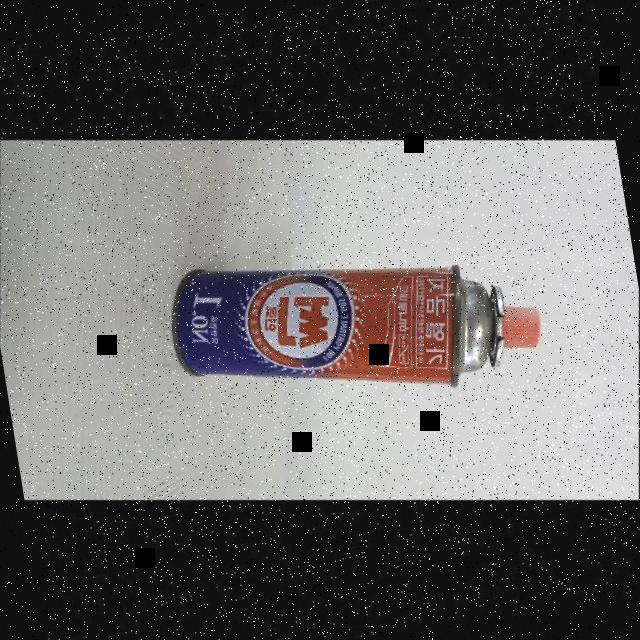chemical_spray_can: (134, 185, 572, 458)
